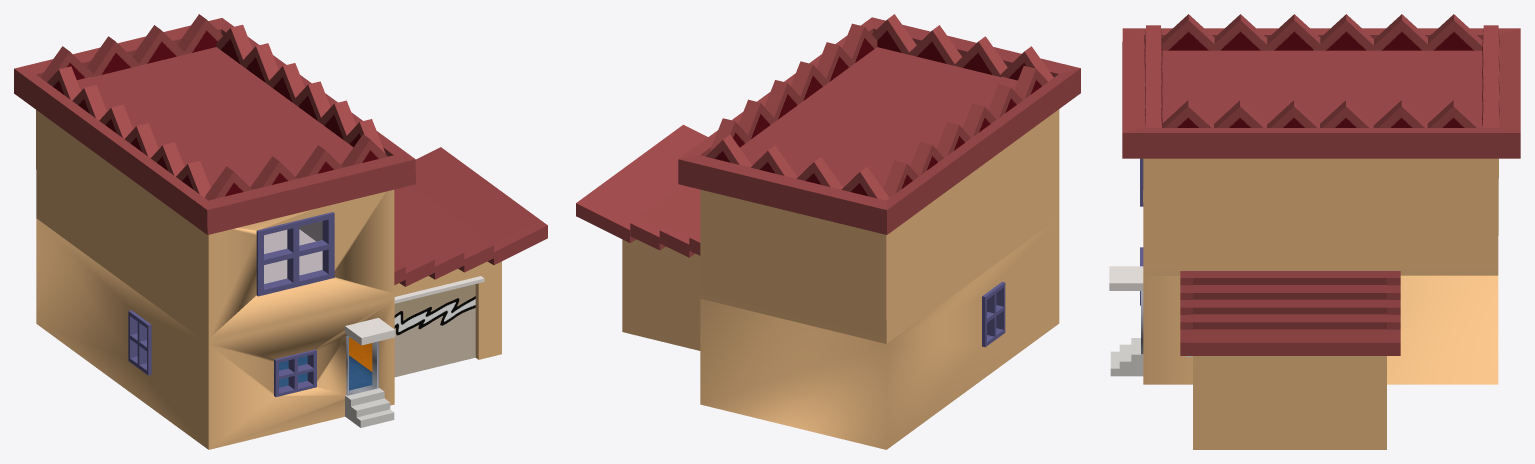
File: Casarocko.obj
3 renders of one model, left to right at view 1: azimuth 30°, elevation 25°; view 2: azimuth 150°, elevation 25°; view 3: azimuth 270°, elevation 25°, orthographic. The views are drawn at different scales.
Parts seen in each view (by area): view 1: Casarocko, Casarocko.007_Casarocko.008, Casarocko.003_Casarocko.004, Casarocko.005_Casarocko.006; view 2: Casarocko, Casarocko.005_Casarocko.006; view 3: Casarocko.
Part boxes in pixels (x1,y1,x2,y2): Casarocko: [14, 14, 547, 449]; Casarocko.007_Casarocko.008: [256, 212, 334, 296]; Casarocko.003_Casarocko.004: [274, 349, 316, 396]; Casarocko.005_Casarocko.006: [128, 310, 151, 375]; Casarocko: [576, 14, 1080, 449]; Casarocko.005_Casarocko.006: [982, 281, 1005, 347]; Casarocko: [1109, 14, 1520, 449].
Size of the model in its own units: 5.41 by 3.8 by 5.08.
1 material, 1 textured.
